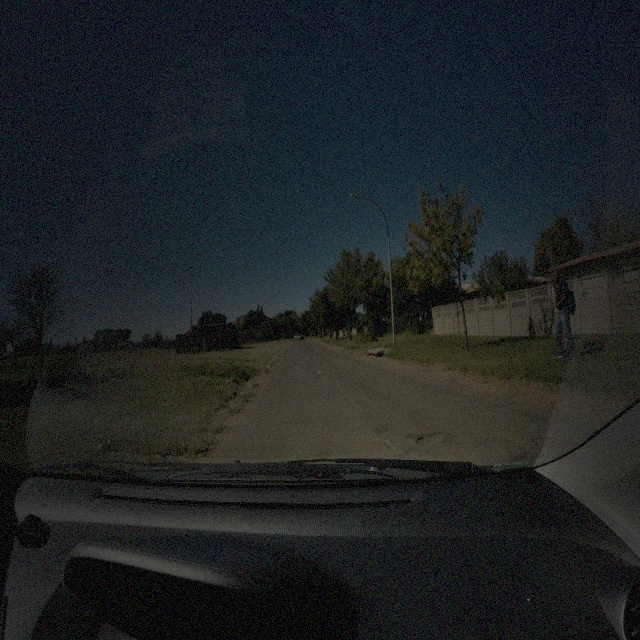pothole: (414, 428, 449, 452)
